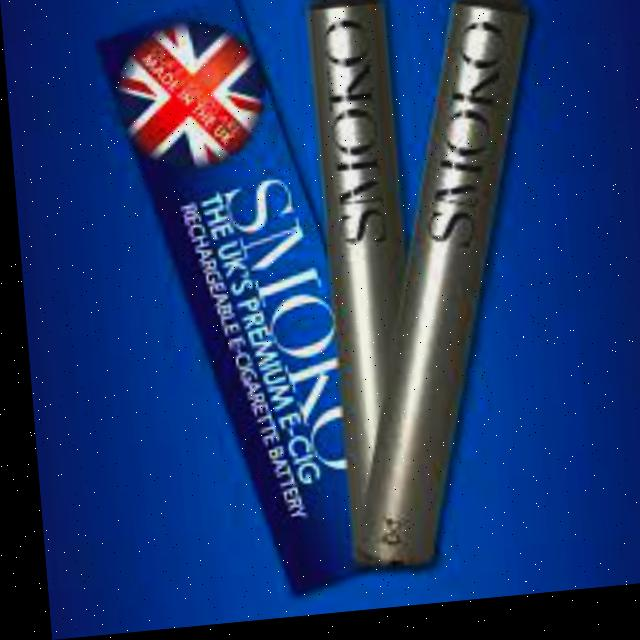vape: (349, 0, 532, 573), (306, 0, 419, 577)
